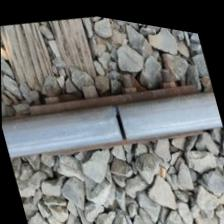person: (85, 83, 156, 159)
